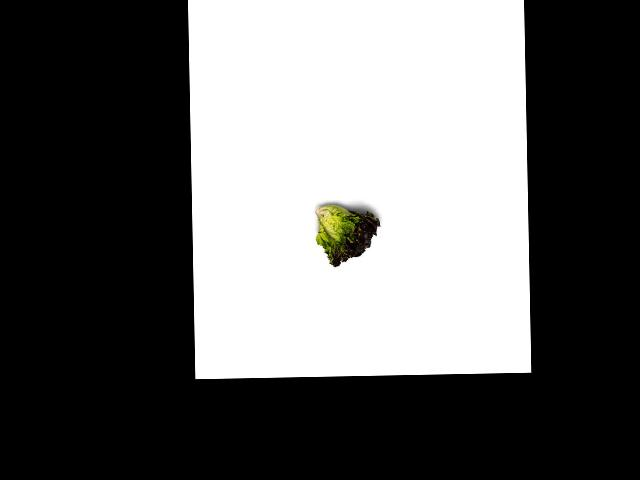lettuce: (312, 203, 385, 266)
